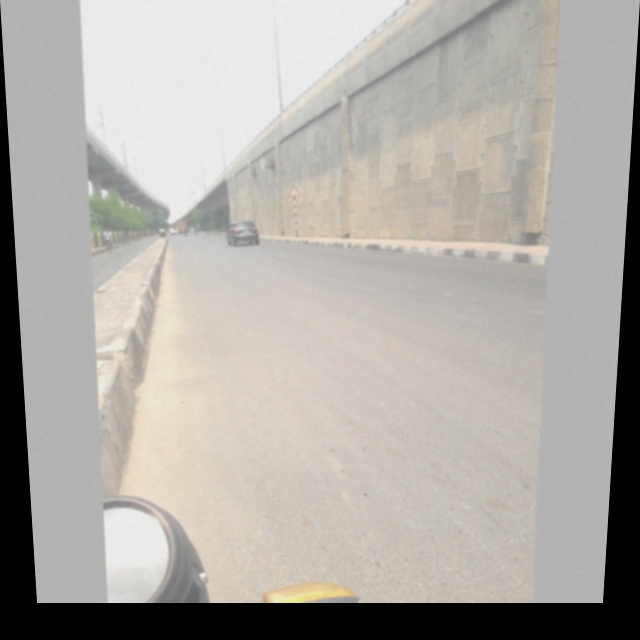Round_About: (280, 178, 307, 204)
